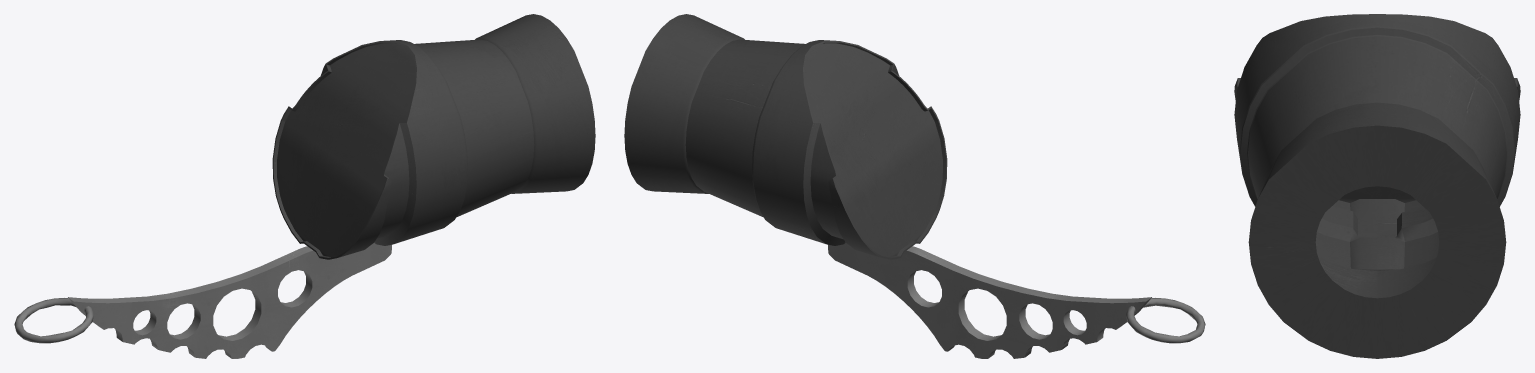
File: pommel_17_r_a.glb
3 views of the same model, side by side, from view 1: azimuth 30°, elevation 25°; view 2: azimuth 150°, elevation 25°; view 3: azimuth 270°, elevation 25° (orthographic). The views are drawn at different scales.
Visible parts, largest first — view 1: pommel_17_r_a_lod0; view 2: pommel_17_r_a_lod0; view 3: pommel_17_r_a_lod0.
Part boxes in pixels (x1,y1,x2,y2): pommel_17_r_a_lod0: [14, 14, 595, 358]; pommel_17_r_a_lod0: [624, 14, 1205, 358]; pommel_17_r_a_lod0: [1234, 14, 1520, 358].
Size of what is drawn, in the model's own units: 0.0989 by 0.0481 by 0.0326.
1 material, 1 textured.
